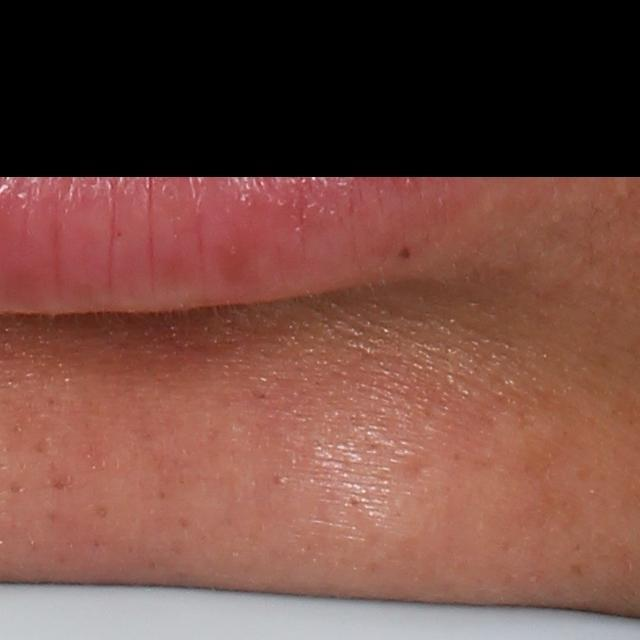nevus: (394, 241, 413, 262)
